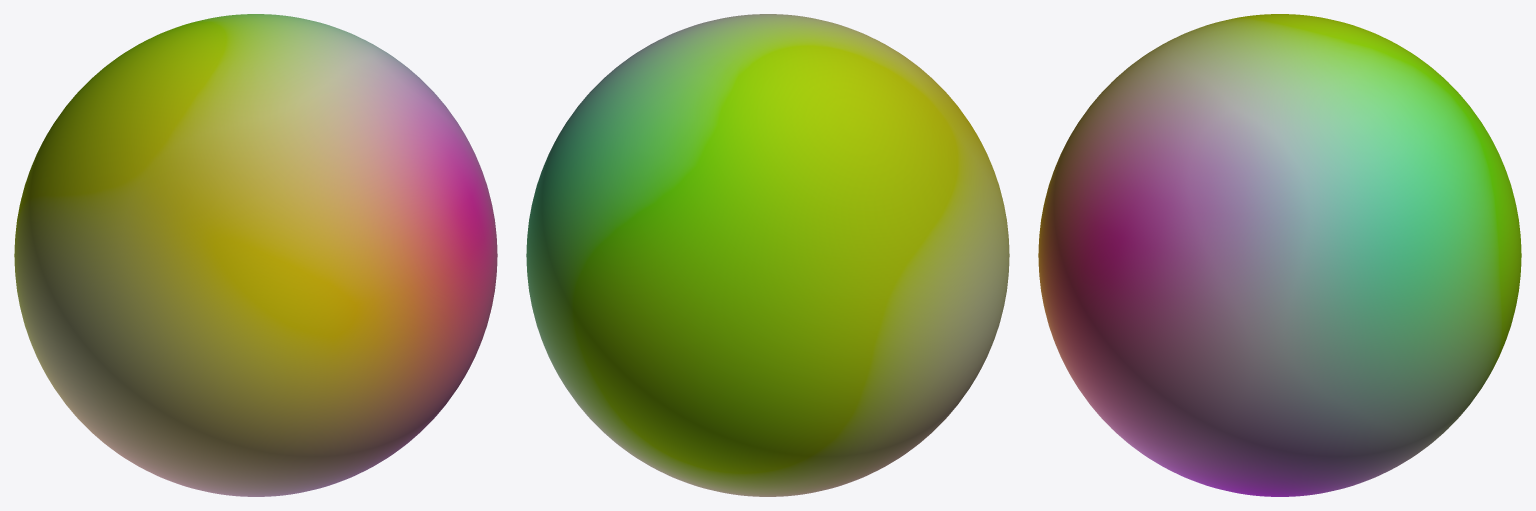
File: mood.glb
The picture shows the model from 3 angles, left to right: view 1: azimuth 30°, elevation 25°; view 2: azimuth 150°, elevation 25°; view 3: azimuth 270°, elevation 25°; orthographic projection.
Parts seen in each view (by area): view 1: Sphere; view 2: Sphere; view 3: Sphere.
Boxes of the visible parts, left/top/right/bottom form: Sphere: left=14, top=14, right=497, bottom=496; Sphere: left=526, top=14, right=1009, bottom=496; Sphere: left=1038, top=14, right=1521, bottom=496.
Bounding box in the file's own units: 2 × 2 × 2.
Materials: 2 (2 with a texture image).
